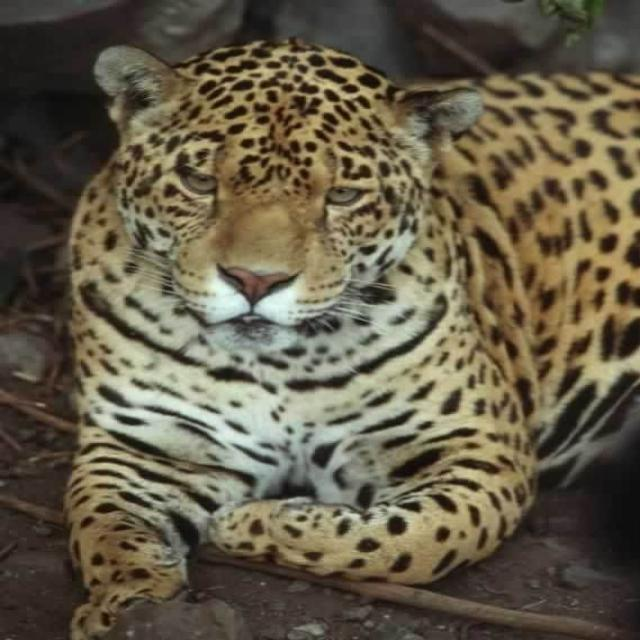Leopard: (52, 33, 634, 637)
